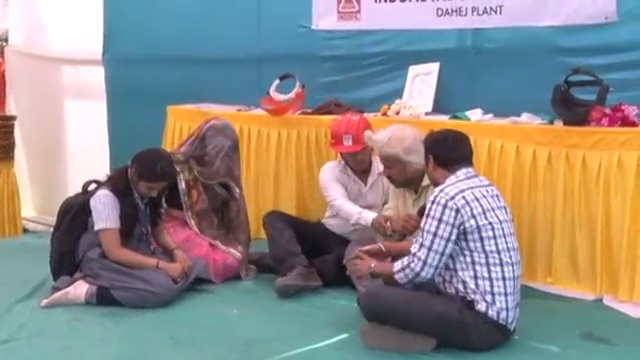helmet: (333, 112, 377, 160)
helmet_off: (180, 123, 242, 189), (420, 130, 479, 194), (120, 150, 181, 207), (376, 125, 426, 194)
helmet_on: (329, 116, 378, 186)
person: (355, 128, 524, 350), (42, 146, 205, 314), (258, 113, 414, 285), (148, 113, 254, 283), (344, 123, 431, 292)
